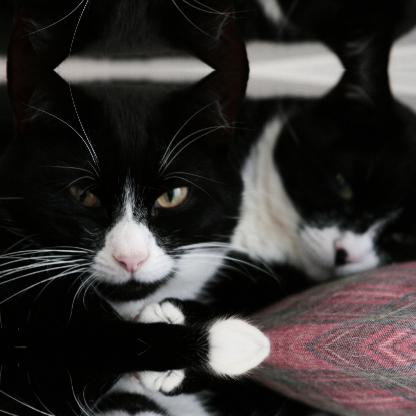Cat: (0, 69, 270, 346), (205, 69, 415, 316), (0, 0, 271, 70), (0, 346, 271, 415), (205, 0, 416, 70)
